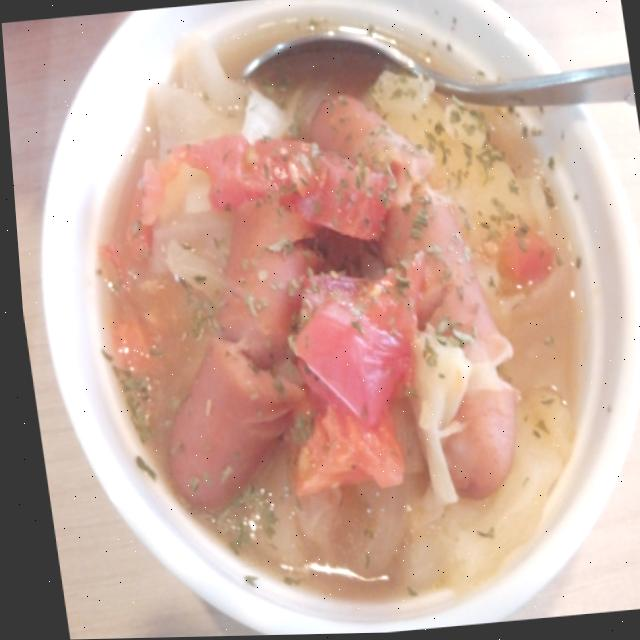汤锅炖物: (44, 0, 629, 617)
